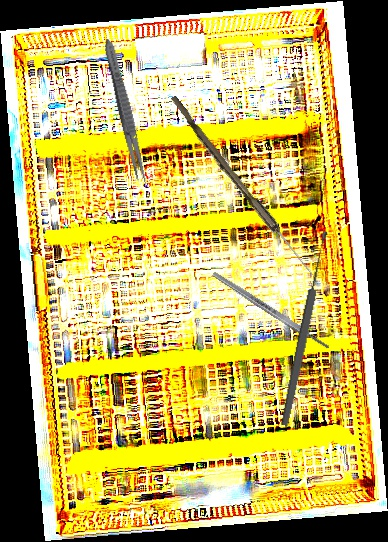Dressing Forceps: (99, 36, 152, 189)
Scalpel Handle: (211, 269, 331, 352)
Surgical Spoon: (166, 95, 318, 278), (279, 230, 331, 427)
